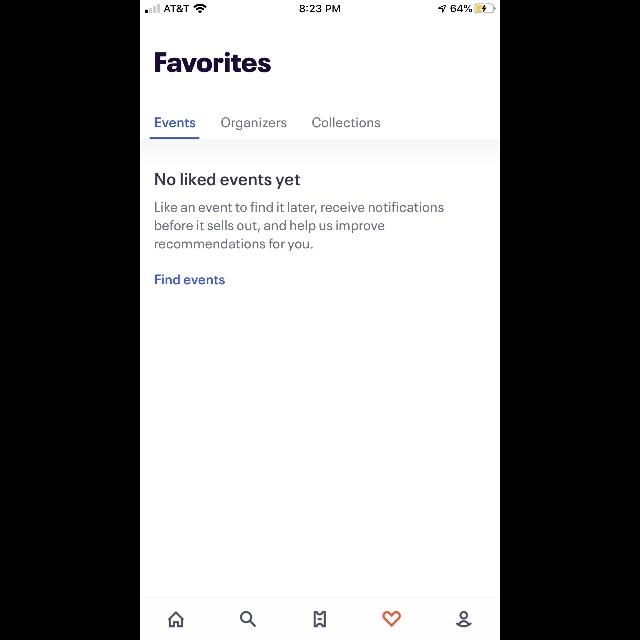icon: (382, 610, 402, 628), (456, 610, 472, 628), (168, 611, 184, 627), (240, 611, 256, 627), (314, 610, 326, 628)
text: (154, 202, 443, 252), (156, 173, 300, 189), (156, 52, 270, 72), (222, 118, 286, 130), (155, 275, 225, 285), (312, 118, 380, 128), (156, 118, 196, 128)
uppertaskbar: (140, 0, 500, 14)
